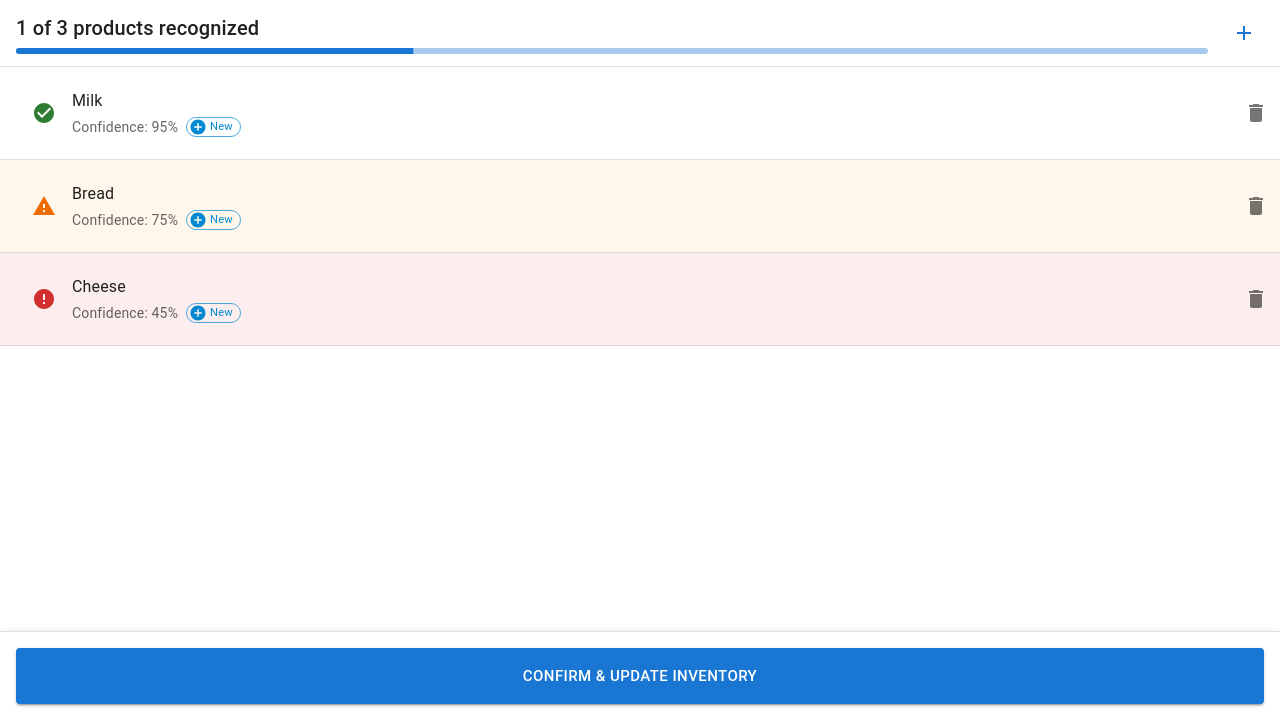
Test: ReceiptReview Component - Story 5.3 › Remove Product › should open remove confirmation dialog when remove button is clicked
# Find the remove button for Cheese by aria-label
Click the button named "Remove Cheese": (1256, 299) [1236,279,1276,319]
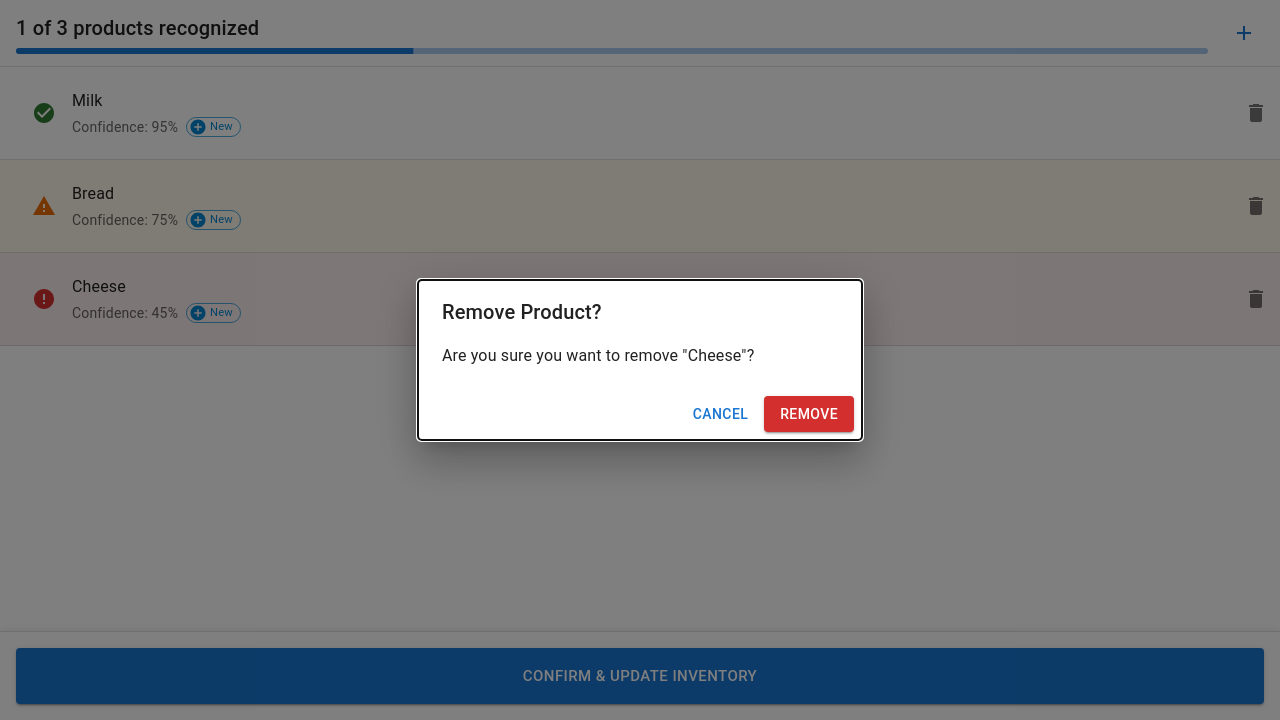
Expected: the text "Cheese" is shown, [72,277,126,296]
Expected: the heading "Remove Product?" is shown, [442,300,602,324]
Expected: the text "Are you sure you want to remove \"Cheese\"?" is shown, [442,346,754,365]
